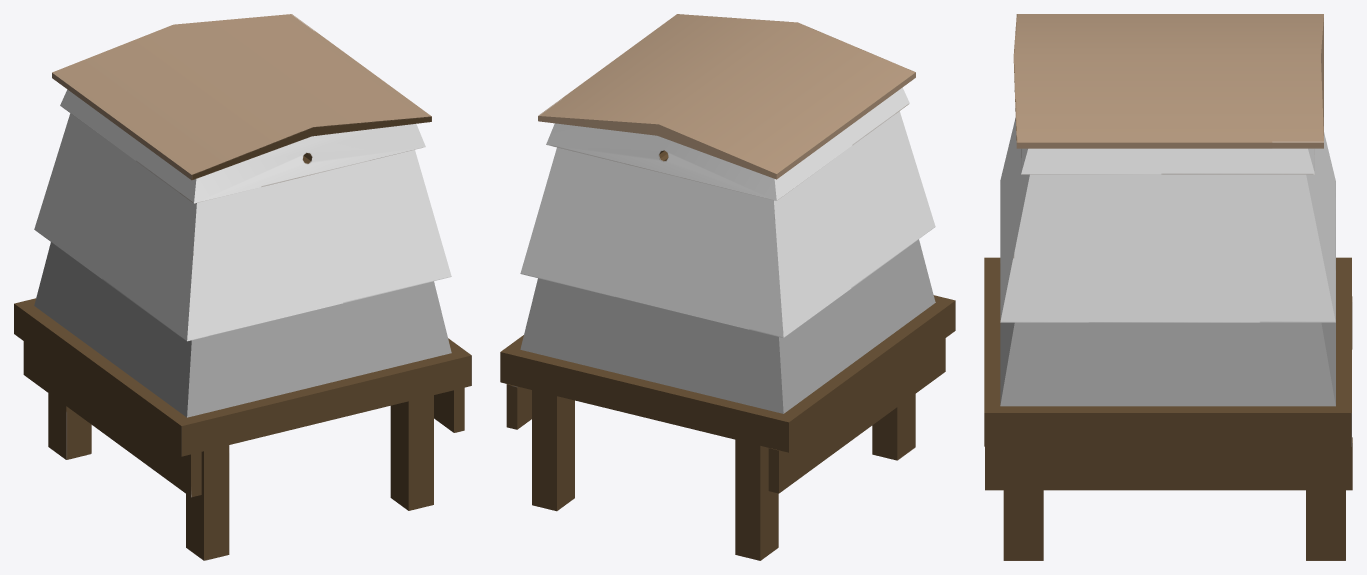
Rendered from ground hive.fbx.
3 renders of one model, left to right at view 1: azimuth 30°, elevation 25°; view 2: azimuth 150°, elevation 25°; view 3: azimuth 270°, elevation 25°, orthographic. The views are drawn at different scales.
Parts seen in each view (by area): view 1: pCube42; view 2: pCube42; view 3: pCube42.
Part boxes in pixels (x1,y1,x2,y2): pCube42: (14, 14, 471, 560); pCube42: (500, 14, 955, 560); pCube42: (984, 14, 1352, 560).
Size of the model in its own units: 2.49 by 3.3 by 2.49.
1 material, 1 textured.
